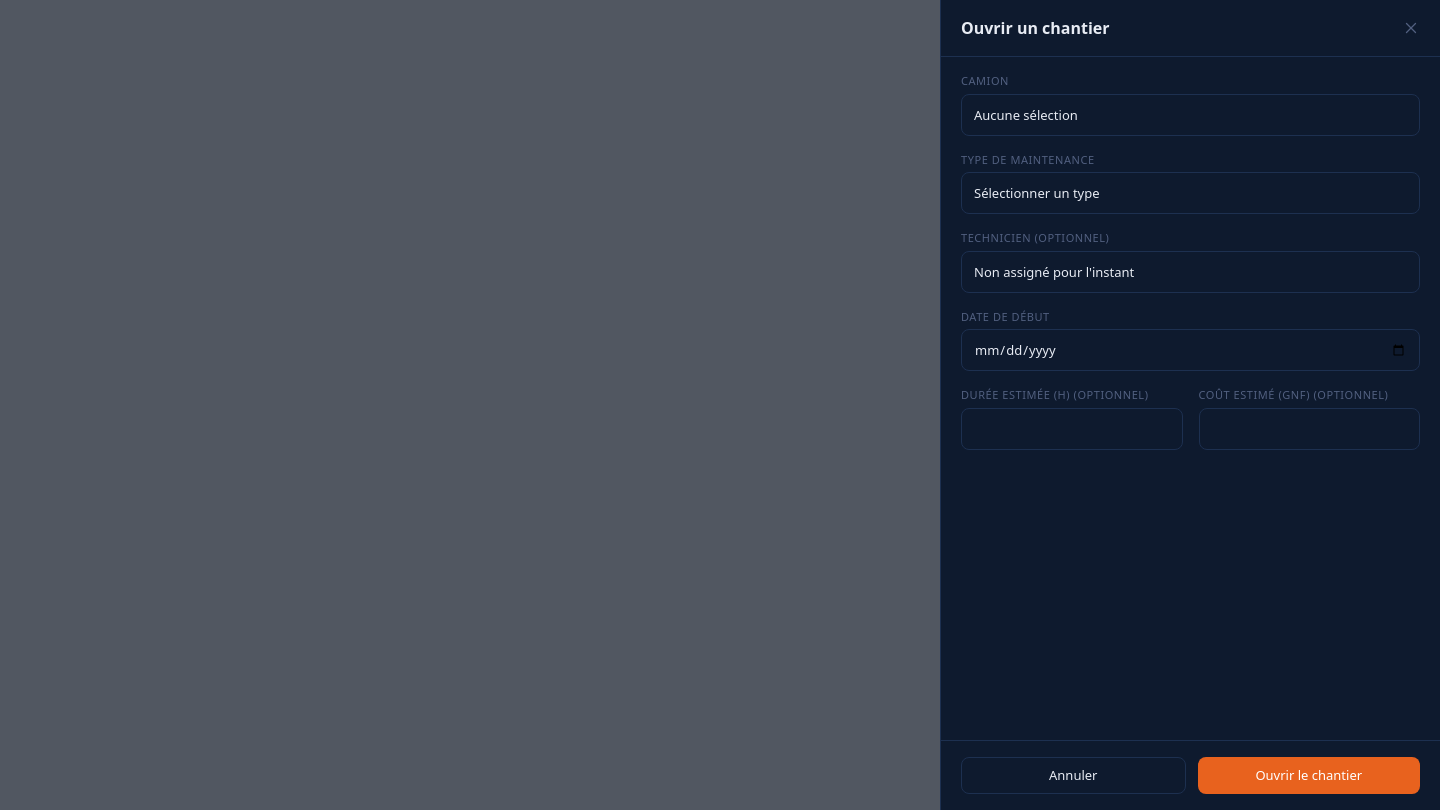
it: NewMaintenanceDrawer › when open › shows the translated label for a known kind fetched from the API
Focus the dropdown labelled "Type de maintenance" at (1190, 193), box [961, 172, 1420, 214]
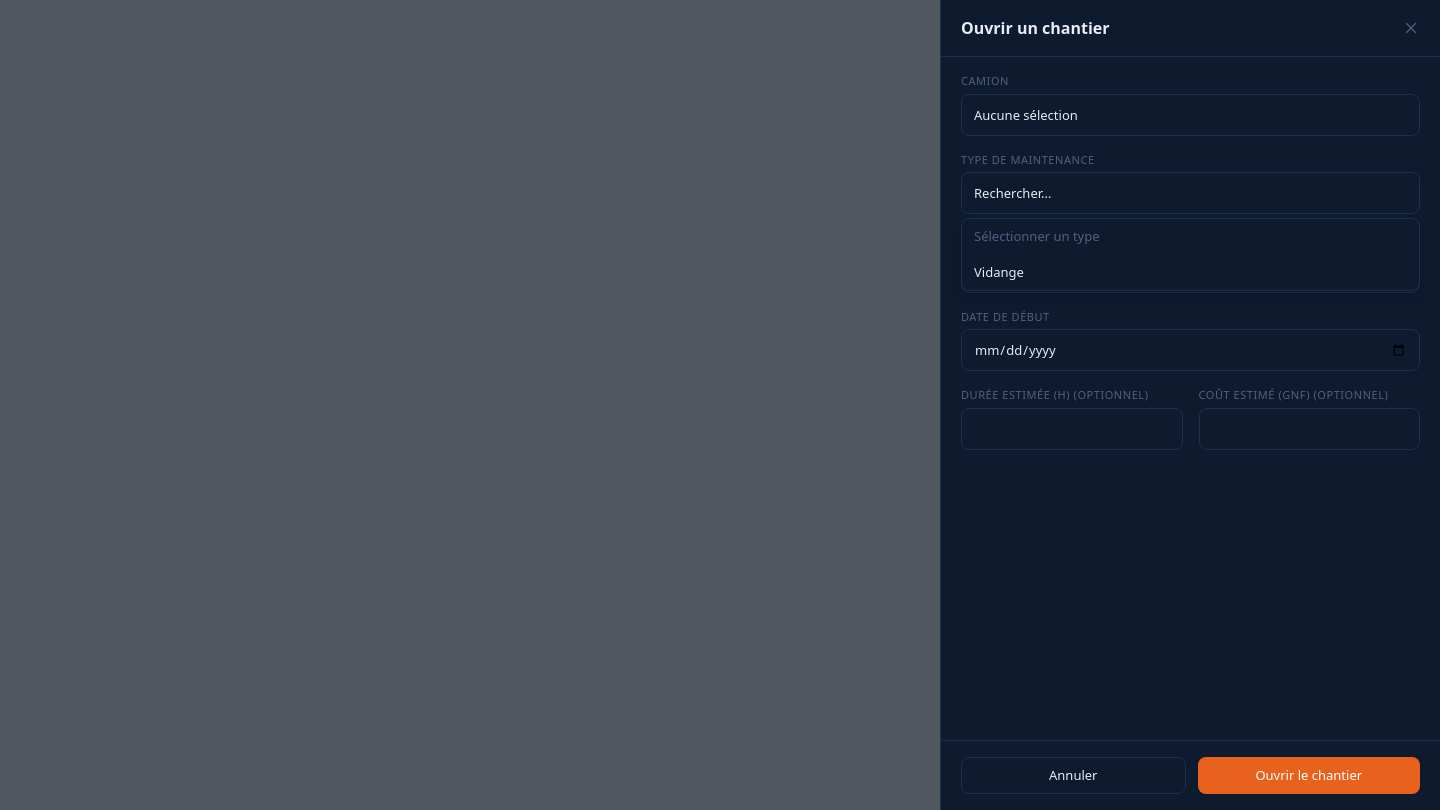
Check: the button "Vidange" is shown, box [962, 254, 1419, 290]
